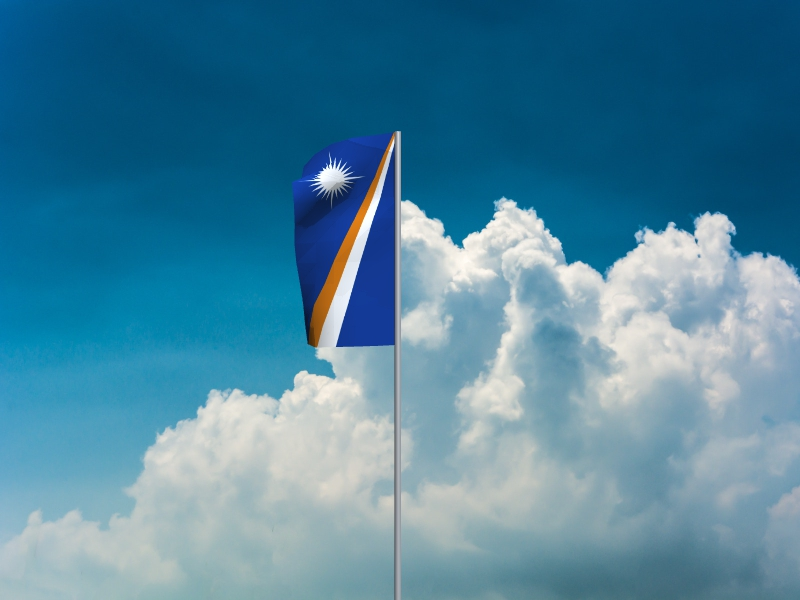mh: (291, 133, 395, 349)
